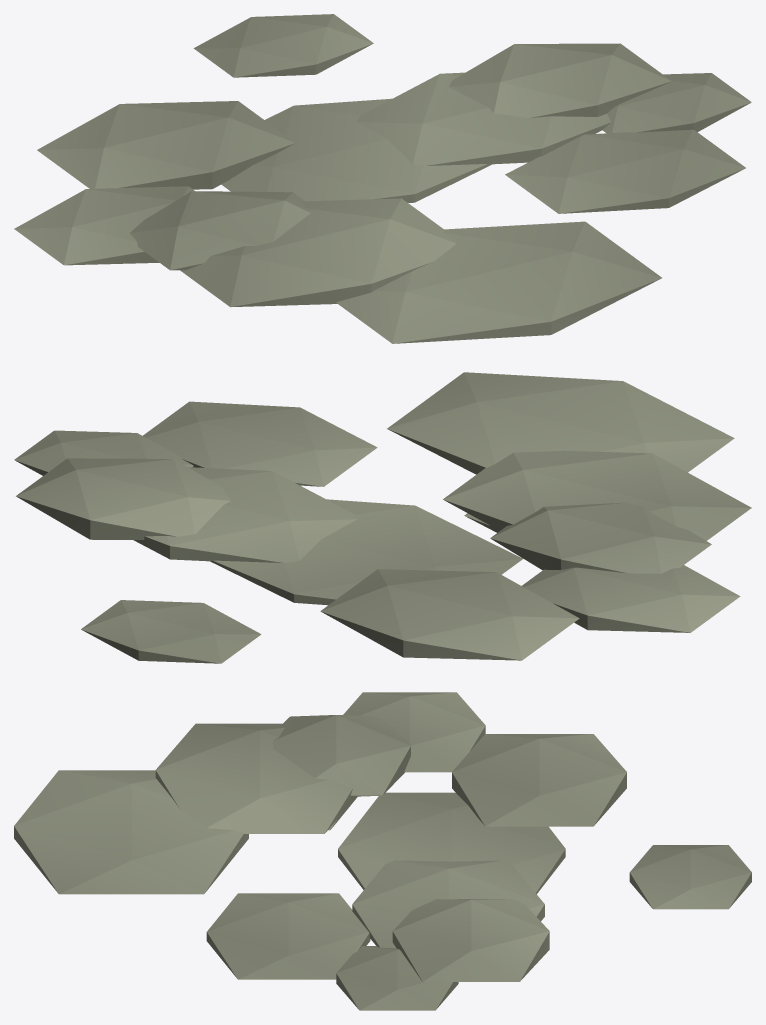
The model's file is iron-lichen.glb.
3 renders of one model, top to bottom at view 1: azimuth 30°, elevation 25°; view 2: azimuth 150°, elevation 25°; view 3: azimuth 270°, elevation 25°, orthographic. The views are drawn at different scales.
Visible parts, largest first — view 1: Скальный лишайник; view 2: Скальный лишайник; view 3: Скальный лишайник.
Boxes of the visible parts, left/top/right/bottom form: Скальный лишайник: left=14, top=14, right=751, bottom=343; Скальный лишайник: left=14, top=372, right=751, bottom=663; Скальный лишайник: left=14, top=692, right=751, bottom=1010.
Bounding box in the file's own units: 1.34 × 0.0697 × 1.32.
